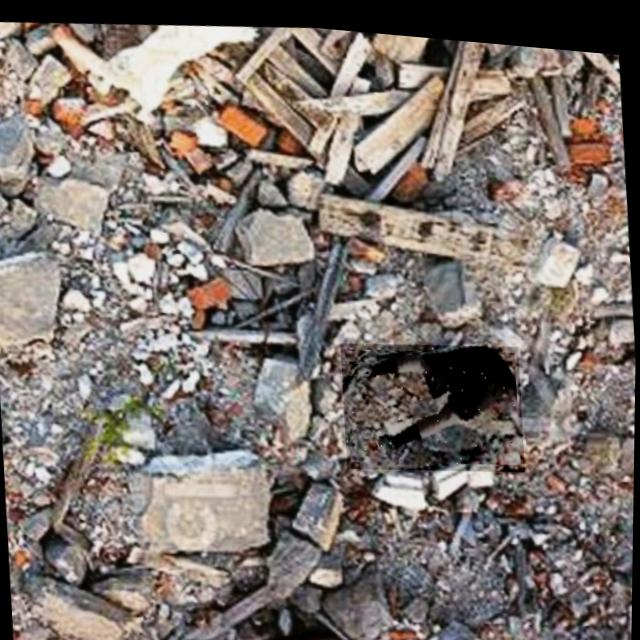Person in Rubble: (338, 324, 526, 474)
